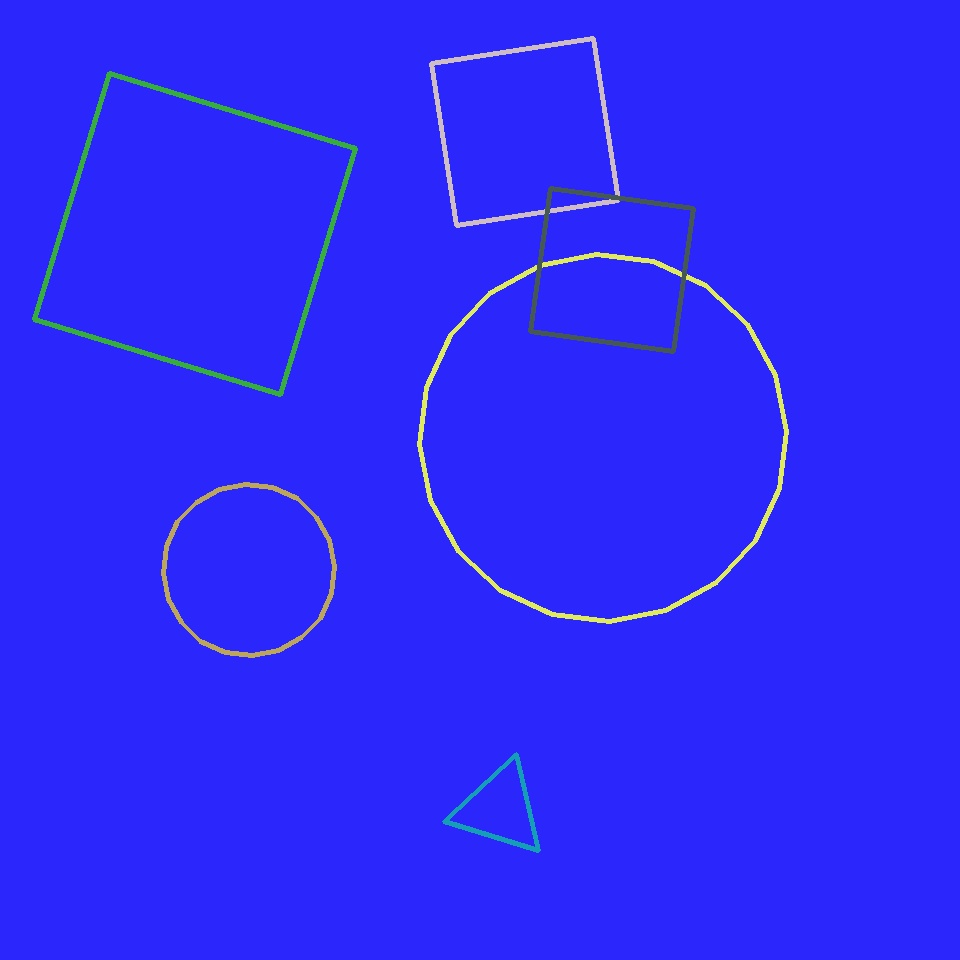circle: (453, 761, 547, 857)
square: (35, 74, 356, 394), (432, 39, 618, 226), (530, 188, 694, 352)
triangle: (420, 255, 786, 622), (164, 484, 334, 656)
